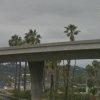Bridge: (3, 34, 99, 93)
